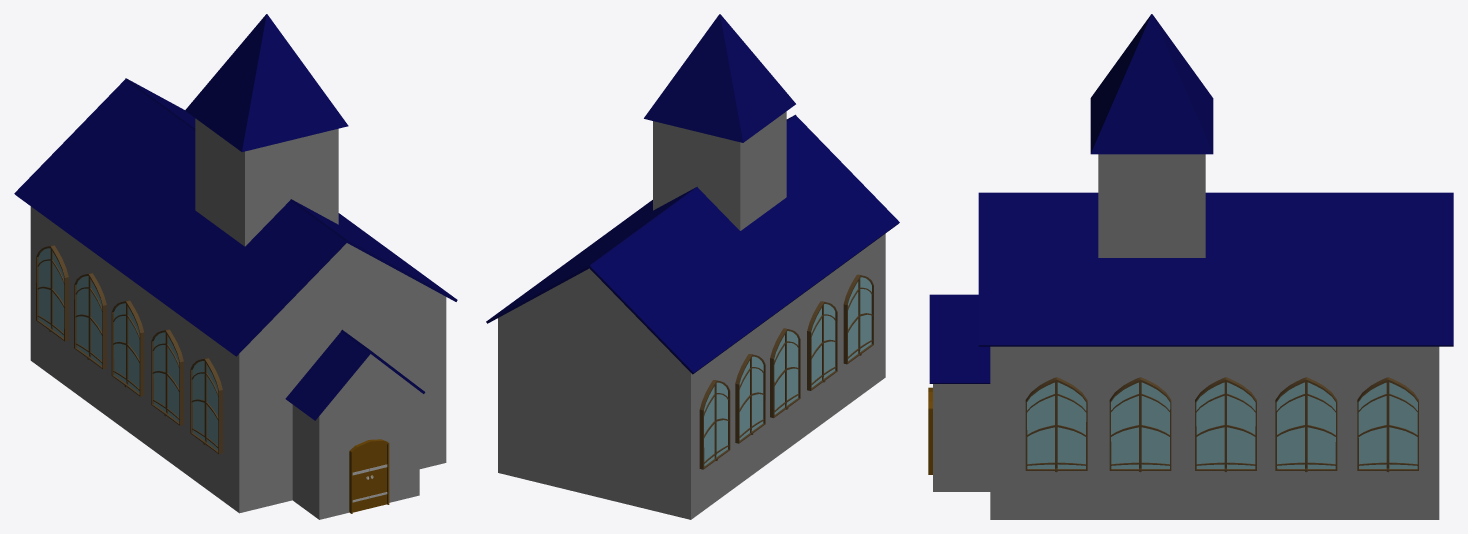
Rendered from Church.fbx.
3 renders of one model, left to right at view 1: azimuth 30°, elevation 25°; view 2: azimuth 150°, elevation 25°; view 3: azimuth 270°, elevation 25°, orthographic. The views are drawn at different scales.
Parts seen in each view (by area): view 1: Church; view 2: Church; view 3: Church.
Part boxes in pixels (x1=…): Church: x1=14, y1=14, x2=457, y2=519; Church: x1=486, y1=14, x2=899, y2=519; Church: x1=928, y1=14, x2=1453, y2=519.
Size of the model in its own units: 4.47 by 8.04 by 8.48.
